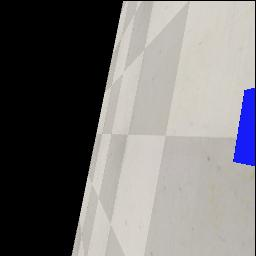box: (233, 88, 255, 166)
